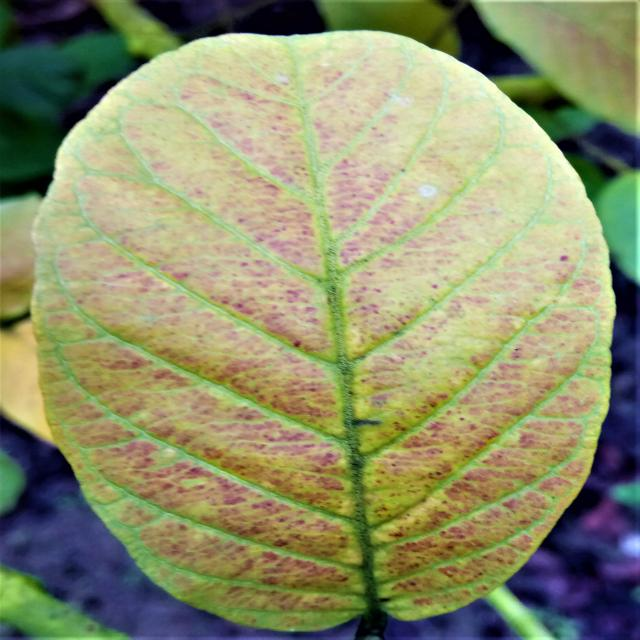Red Rust: (33, 32, 613, 630)
